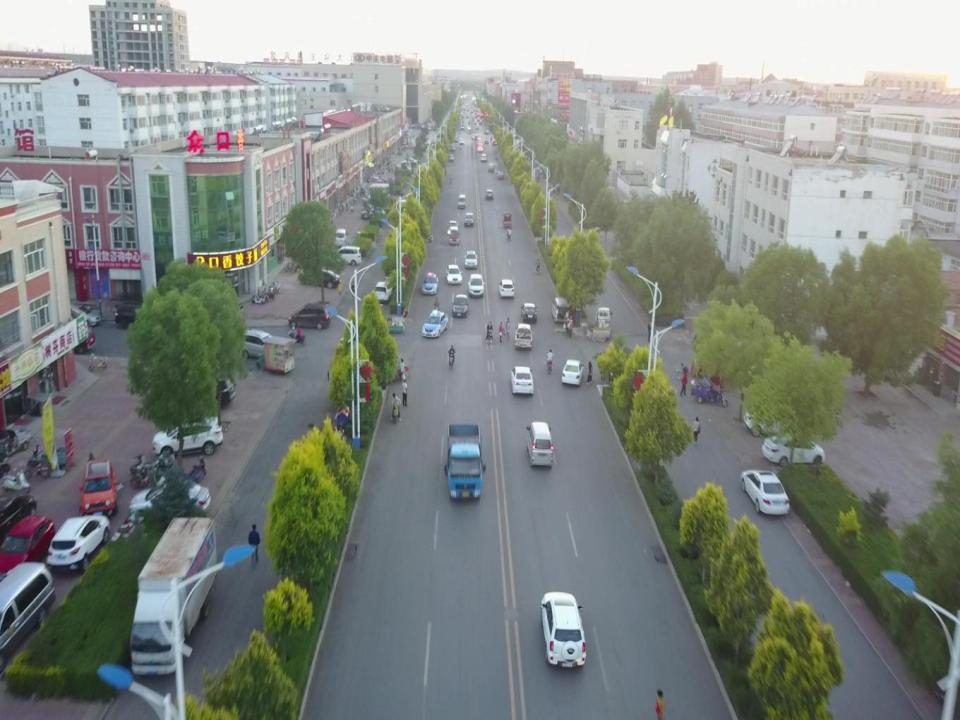car: (46, 516, 109, 575), (0, 515, 56, 580), (541, 591, 586, 668), (130, 479, 211, 518), (153, 420, 223, 459), (80, 458, 125, 518), (741, 468, 791, 515), (763, 430, 826, 467), (0, 494, 37, 544), (746, 404, 798, 439), (183, 375, 236, 408), (286, 303, 330, 330), (237, 330, 278, 358), (115, 303, 156, 330), (57, 326, 95, 354), (60, 304, 101, 327), (300, 268, 340, 287), (421, 310, 448, 338), (509, 366, 534, 394), (561, 359, 585, 387), (333, 246, 361, 266), (374, 281, 394, 302), (467, 273, 485, 296), (421, 271, 439, 294), (452, 294, 468, 318), (521, 302, 537, 324), (498, 278, 514, 298), (446, 264, 462, 284), (464, 252, 478, 268), (447, 220, 459, 236), (464, 213, 474, 226), (486, 189, 494, 199), (497, 170, 504, 179), (480, 155, 487, 162), (488, 163, 494, 171), (447, 155, 454, 161), (496, 156, 499, 161)
truck: (131, 516, 218, 678), (444, 424, 486, 501), (592, 307, 613, 339), (514, 323, 534, 349)
van: (0, 562, 54, 647), (526, 422, 552, 466), (552, 296, 569, 324), (333, 228, 347, 244), (449, 228, 459, 244), (457, 194, 466, 208)
